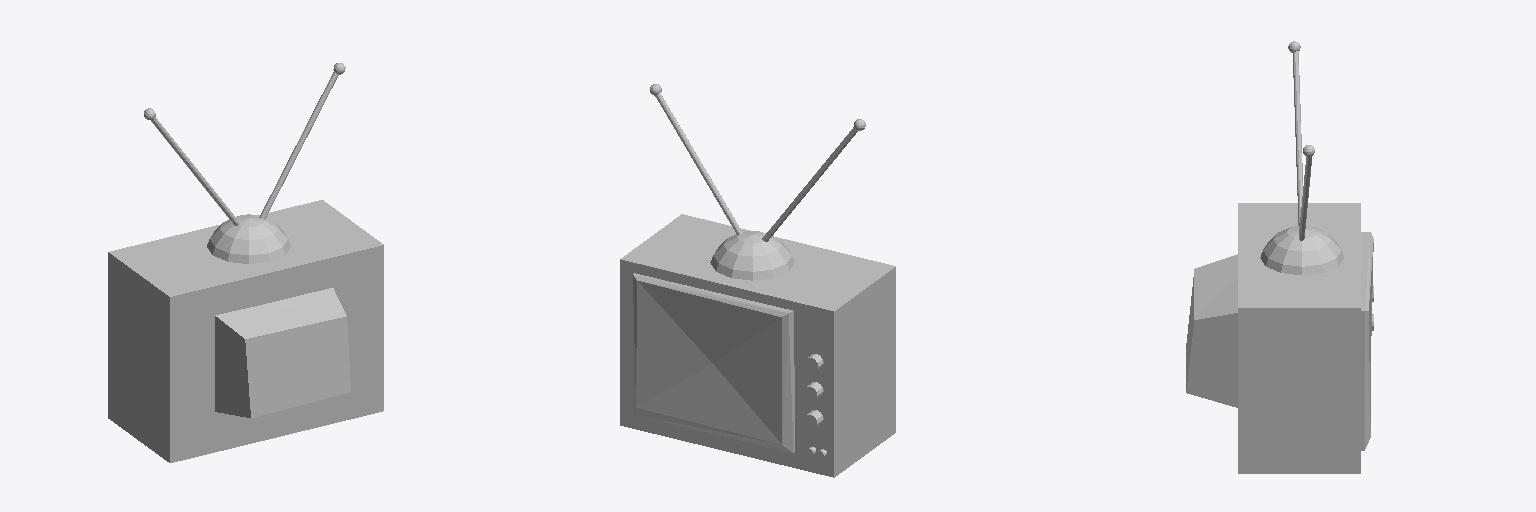
3 views of the same model, side by side, from view 1: azimuth 30°, elevation 25°; view 2: azimuth 150°, elevation 25°; view 3: azimuth 270°, elevation 25° (orthographic).
Visible parts, largest first — view 1: mesh[number redacted], mesh[number redacted], mesh[number redacted], mesh[number redacted], mesh[number redacted]; view 2: mesh[number redacted], mesh[number redacted], mesh[number redacted], mesh[number redacted], mesh[number redacted]; view 3: mesh[number redacted], mesh[number redacted], mesh[number redacted], mesh[number redacted], mesh[number redacted].
Boxes of the visible parts, x1,y1,x2,y2 form: mesh[number redacted]: [108, 200, 383, 462]; mesh[number redacted]: [215, 288, 350, 417]; mesh[number redacted]: [207, 214, 290, 263]; mesh[number redacted]: [259, 72, 338, 219]; mesh[number redacted]: [151, 117, 239, 225]; mesh[number redacted]: [620, 214, 895, 477]; mesh[number redacted]: [633, 273, 794, 453]; mesh[number redacted]: [710, 231, 794, 280]; mesh[number redacted]: [655, 93, 742, 234]; mesh[number redacted]: [762, 127, 857, 241]; mesh[number redacted]: [1238, 203, 1360, 473]; mesh[number redacted]: [1186, 254, 1237, 407]; mesh[number redacted]: [1260, 226, 1344, 274]; mesh[number redacted]: [1361, 232, 1373, 450]; mesh[number redacted]: [1293, 51, 1302, 226].
Size of the model in its own units: 1.2 by 1.78 by 0.91.